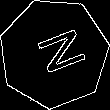N_W: (23, 26, 85, 81)
